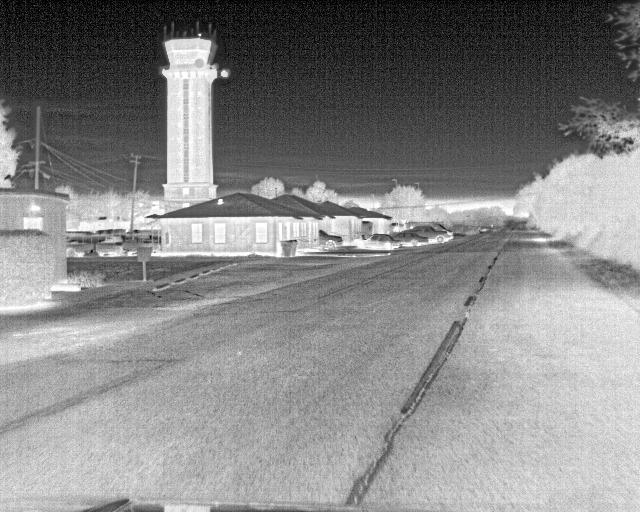car: (94, 234, 136, 256), (66, 232, 94, 258), (362, 234, 398, 251), (412, 224, 445, 242), (316, 229, 344, 249), (390, 230, 427, 245)
